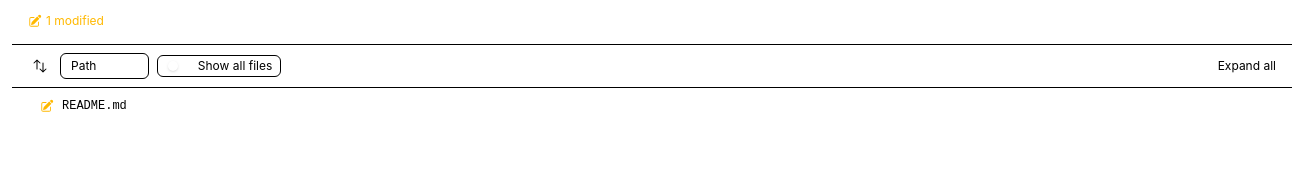
it: CommitFileList › opens a file context menu
Right-click the button "README.md".
right_click(94, 106)  # box [12,92,1292,120]
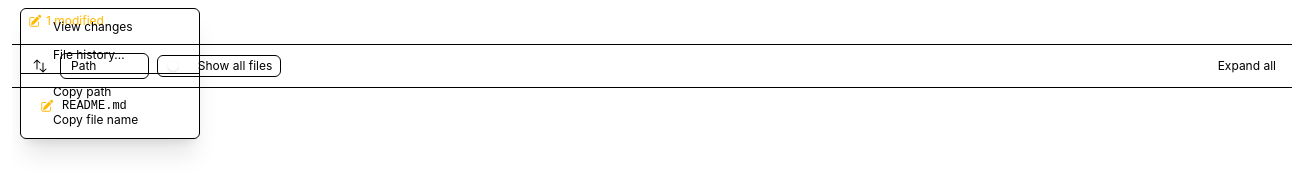
Result: the menu is shown at [20,8,200,139]
